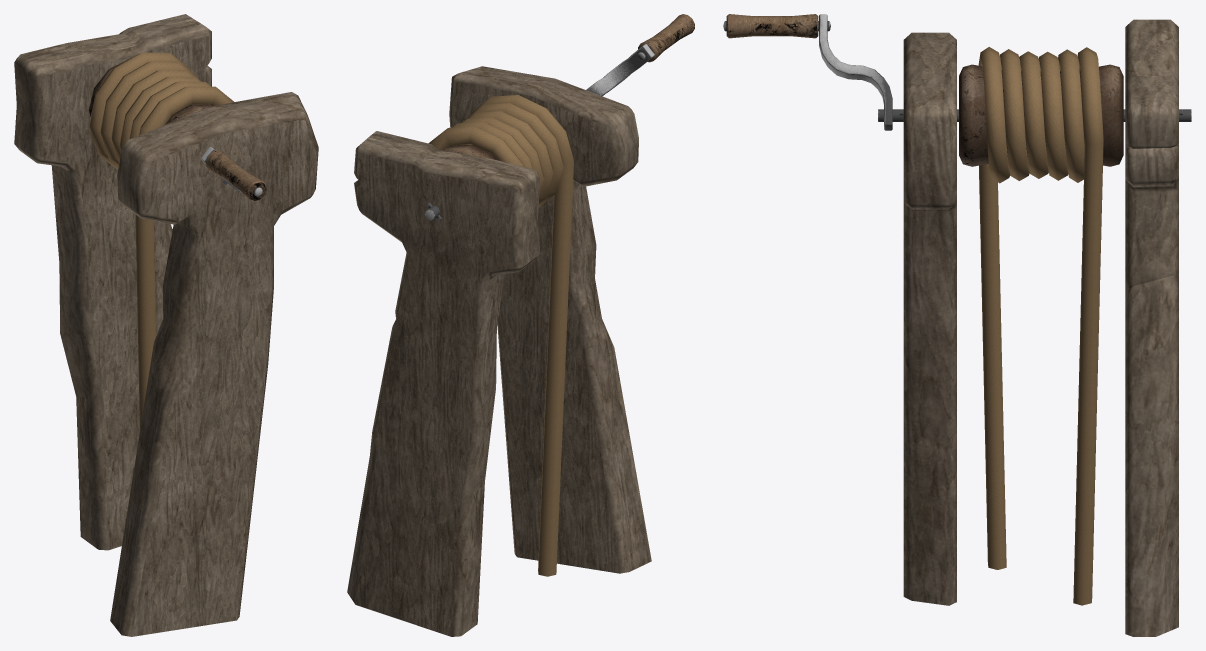
File: fishwinch.glb
The picture shows the model from 3 angles, left to right: view 1: azimuth 30°, elevation 25°; view 2: azimuth 150°, elevation 25°; view 3: azimuth 270°, elevation 25°; orthographic projection. The views are drawn at different scales.
Visible parts, largest first — view 1: polySurface3, polySurface4; view 2: polySurface3, polySurface4; view 3: polySurface3, polySurface4.
Part boxes in pixels (x1=…): polySurface3: x1=14, y1=14, x2=318, y2=636; polySurface4: x1=88, y1=59, x2=266, y2=201; polySurface3: x1=347, y1=66, x2=651, y2=636; polySurface4: x1=425, y1=14, x2=694, y2=220; polySurface3: x1=903, y1=19, x2=1178, y2=636; polySurface4: x1=723, y1=14, x2=1191, y2=166.
Size of the model in its own units: 0.1158 by 0.2737 by 0.2112.
1 material, 1 textured.
